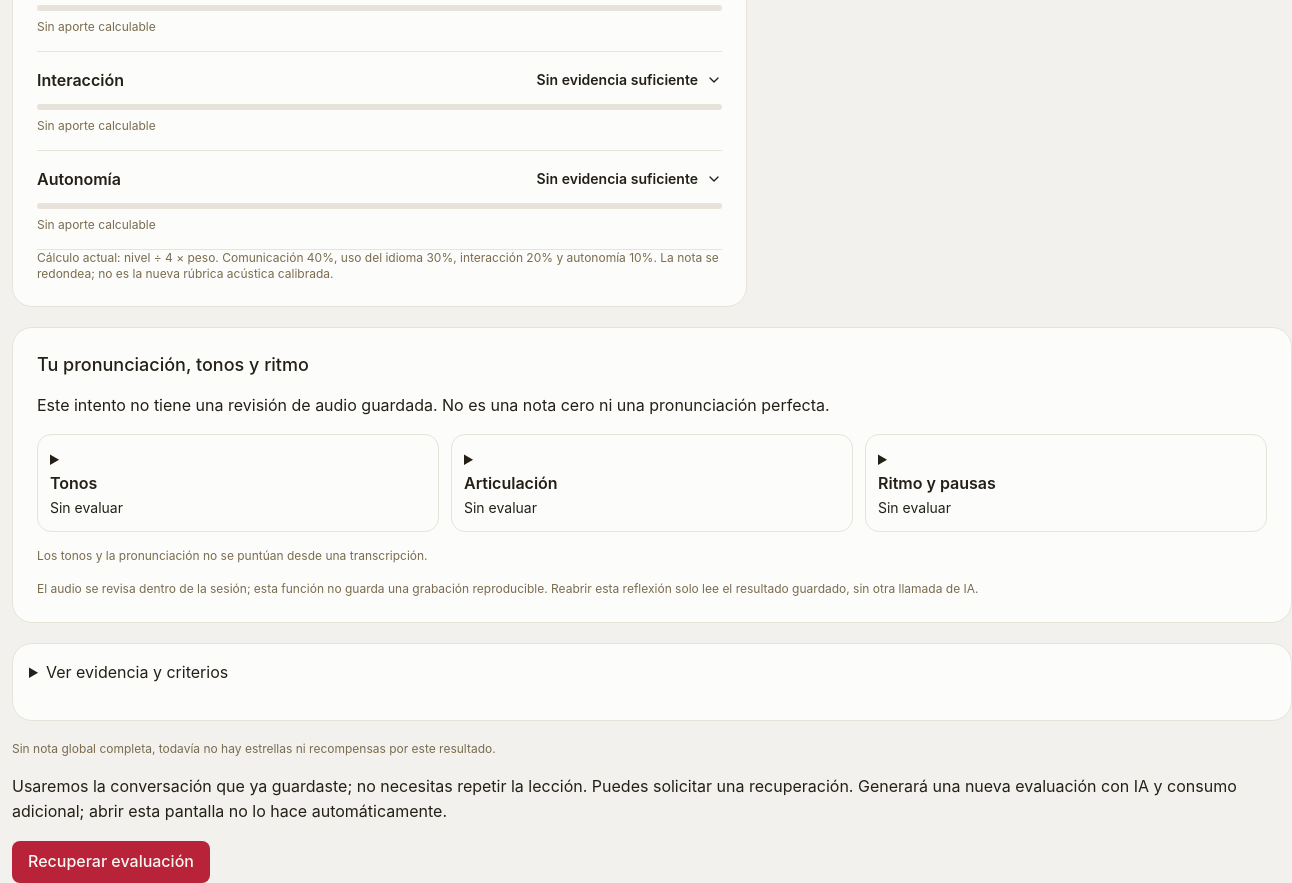
Test case: Journey report action boundary › recovers saved speech only after an explicit press and discloses extra AI usage
This screenshot has width=1292, height=883.
(page scrolled)
Check: the text "consumo adicional" is shown, box left=12, top=776, right=1237, bottom=821
Click the button "Recuperar evaluación" at x=111, y=862, box left=12, top=841, right=210, bottom=882
(page scrolled)
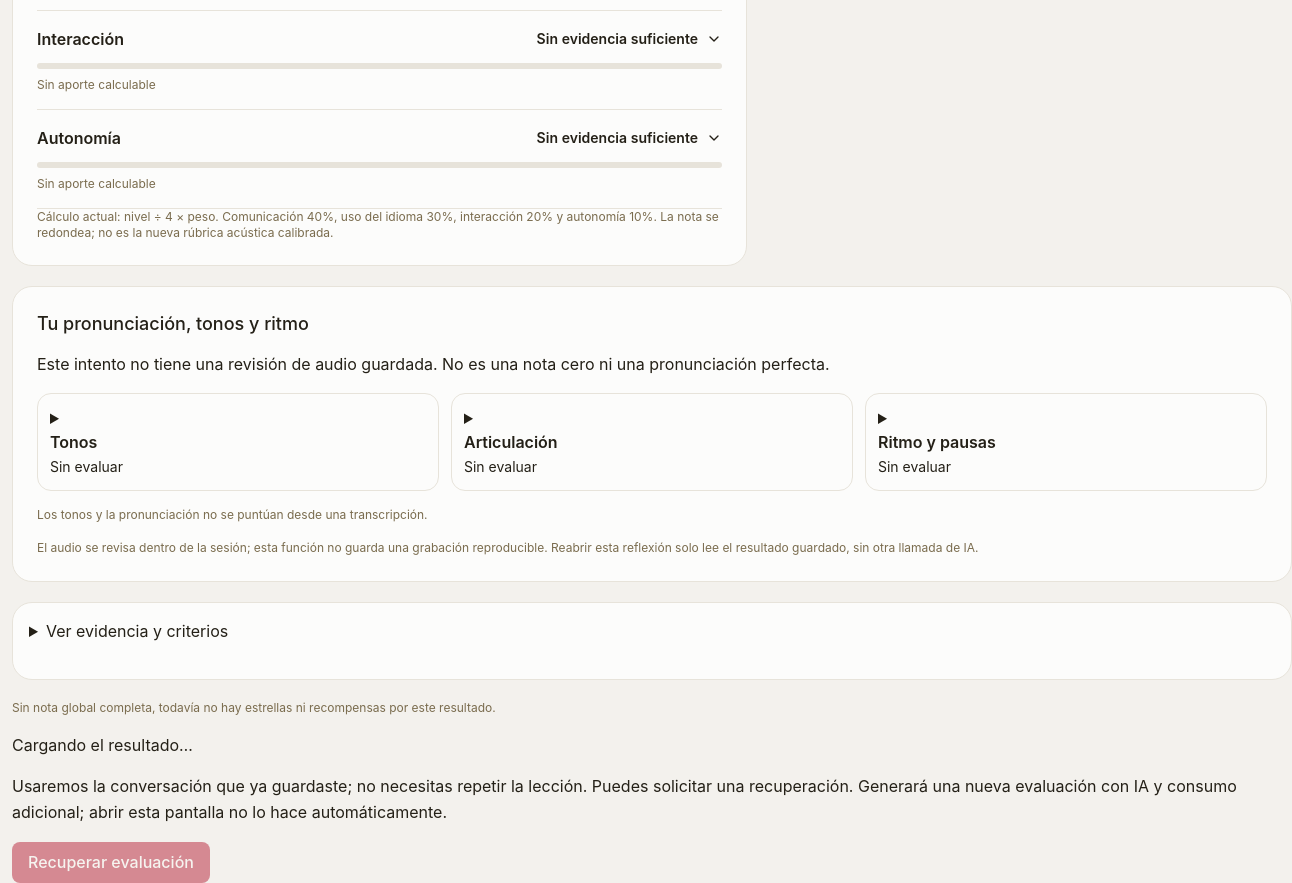
Click the button "Recuperar evaluación" at x=111, y=862, box left=12, top=842, right=210, bottom=882
(page scrolled)
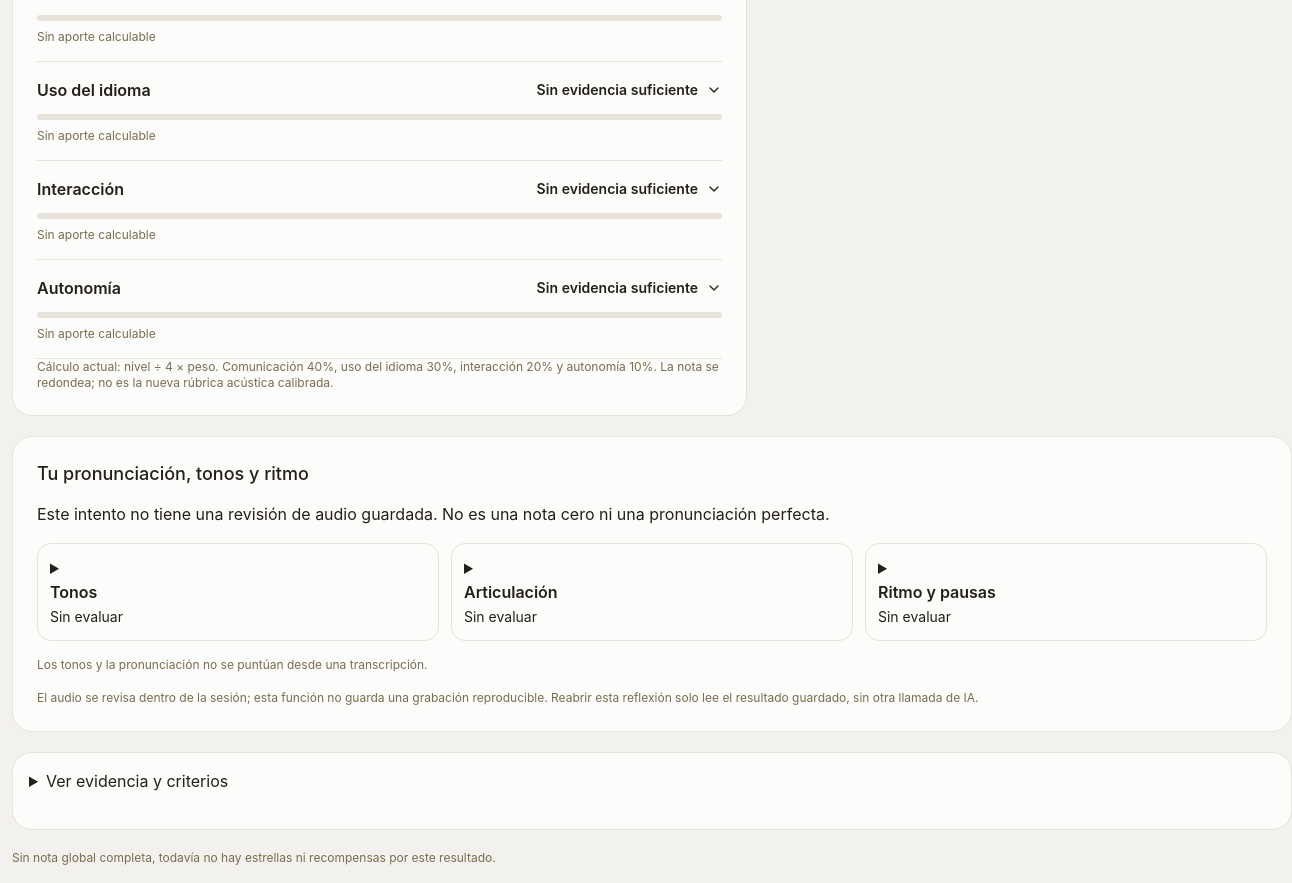
Check: the button "Recuperar evaluación" is gone
